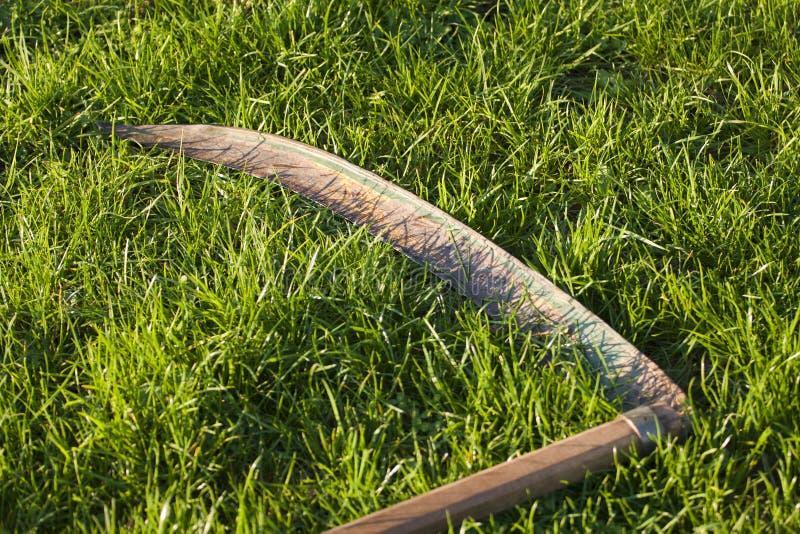foice: (95, 118, 700, 496)
